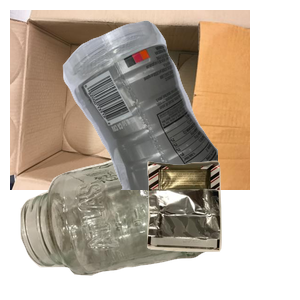cardboard: (10, 10, 250, 190)
glass: (18, 143, 227, 300)
plastic: (60, 18, 300, 198)
trash: (144, 158, 300, 300)
